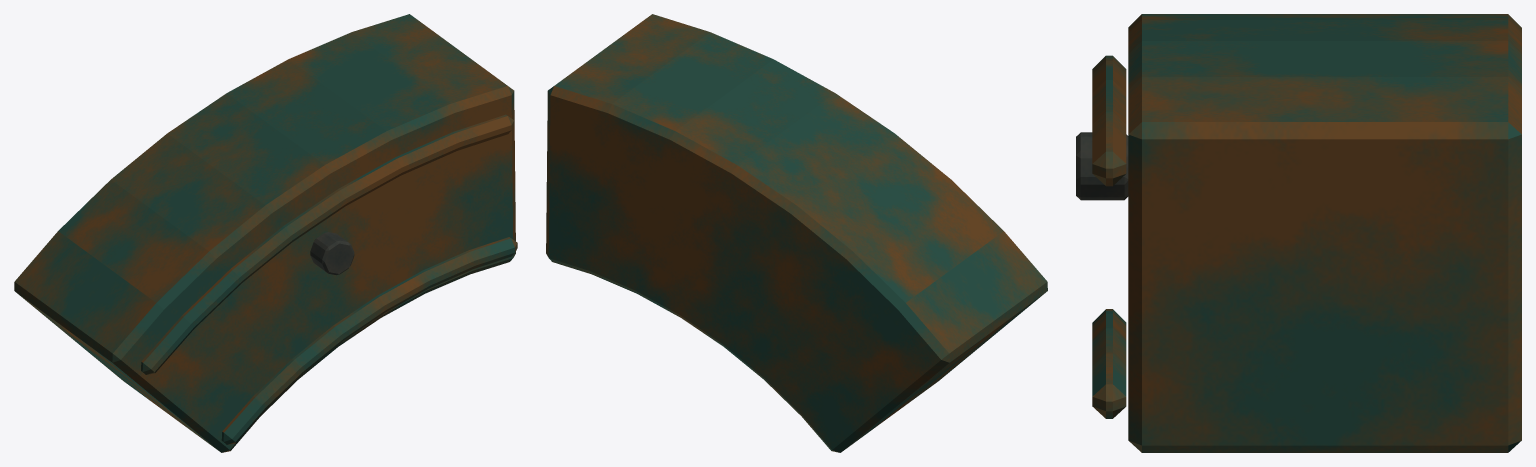
File: ring-segment-CLV0Y1HH.glb
The picture shows the model from 3 angles, left to right: view 1: azimuth 30°, elevation 25°; view 2: azimuth 150°, elevation 25°; view 3: azimuth 270°, elevation 25°; orthographic projection. The views are drawn at different scales.
Visible parts, largest first — view 1: ring-segment__RV_bronze, ring-segment__RV_iron; view 2: ring-segment__RV_bronze; view 3: ring-segment__RV_bronze, ring-segment__RV_iron.
Part boxes in pixels (<box>): ring-segment__RV_bronze: <box>14,14,517,452</box>; ring-segment__RV_iron: <box>310,232,354,275</box>; ring-segment__RV_bronze: <box>546,14,1047,452</box>; ring-segment__RV_bronze: <box>1092,14,1521,452</box>; ring-segment__RV_iron: <box>1076,132,1128,200</box>.
Size of the model in its own units: 1.15 by 0.8087 by 0.589.
Materials: 2 (2 with a texture image).
